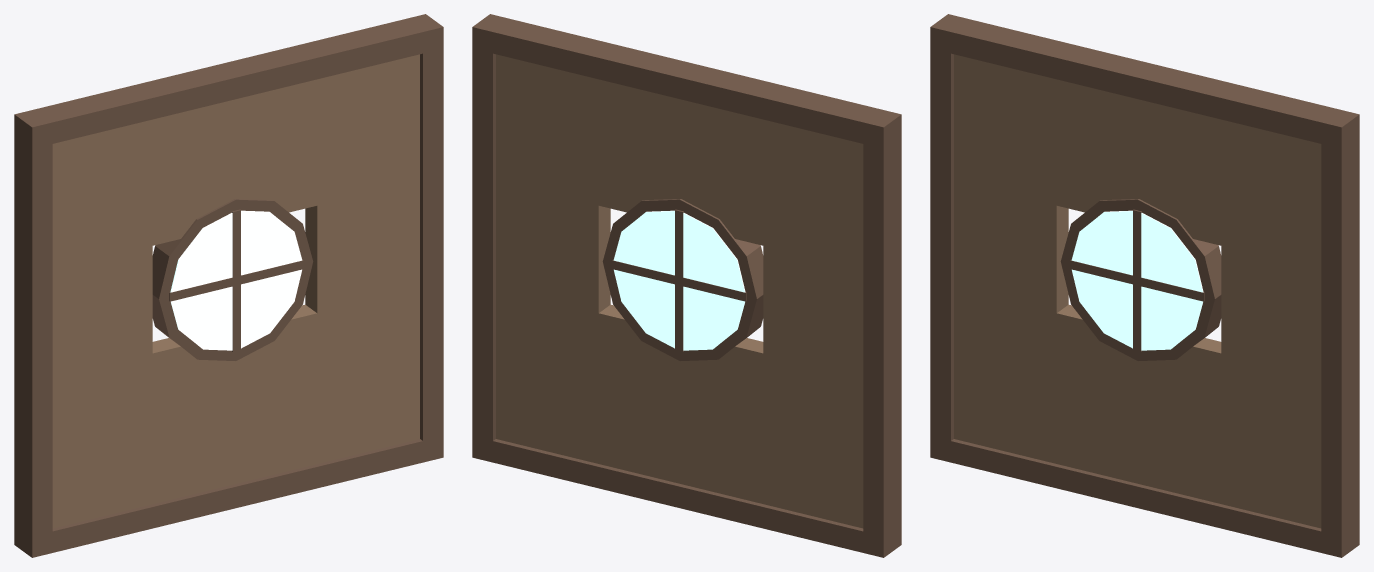
File: haunted_wall_windowround.glb
The picture shows the model from 3 angles, left to right: view 1: azimuth 30°, elevation 25°; view 2: azimuth 150°, elevation 25°; view 3: azimuth 330°, elevation 25°; orthographic projection.
Visible parts, largest first — view 1: Haunted_Wall_WindowRound; view 2: Haunted_Wall_WindowRound; view 3: Haunted_Wall_WindowRound.
Boxes of the visible parts, x1=… form: Haunted_Wall_WindowRound: x1=14, y1=14, x2=443, y2=557; Haunted_Wall_WindowRound: x1=472, y1=14, x2=901, y2=557; Haunted_Wall_WindowRound: x1=930, y1=14, x2=1359, y2=557.
Size of the model in its own units: 4 by 4 by 0.3.
